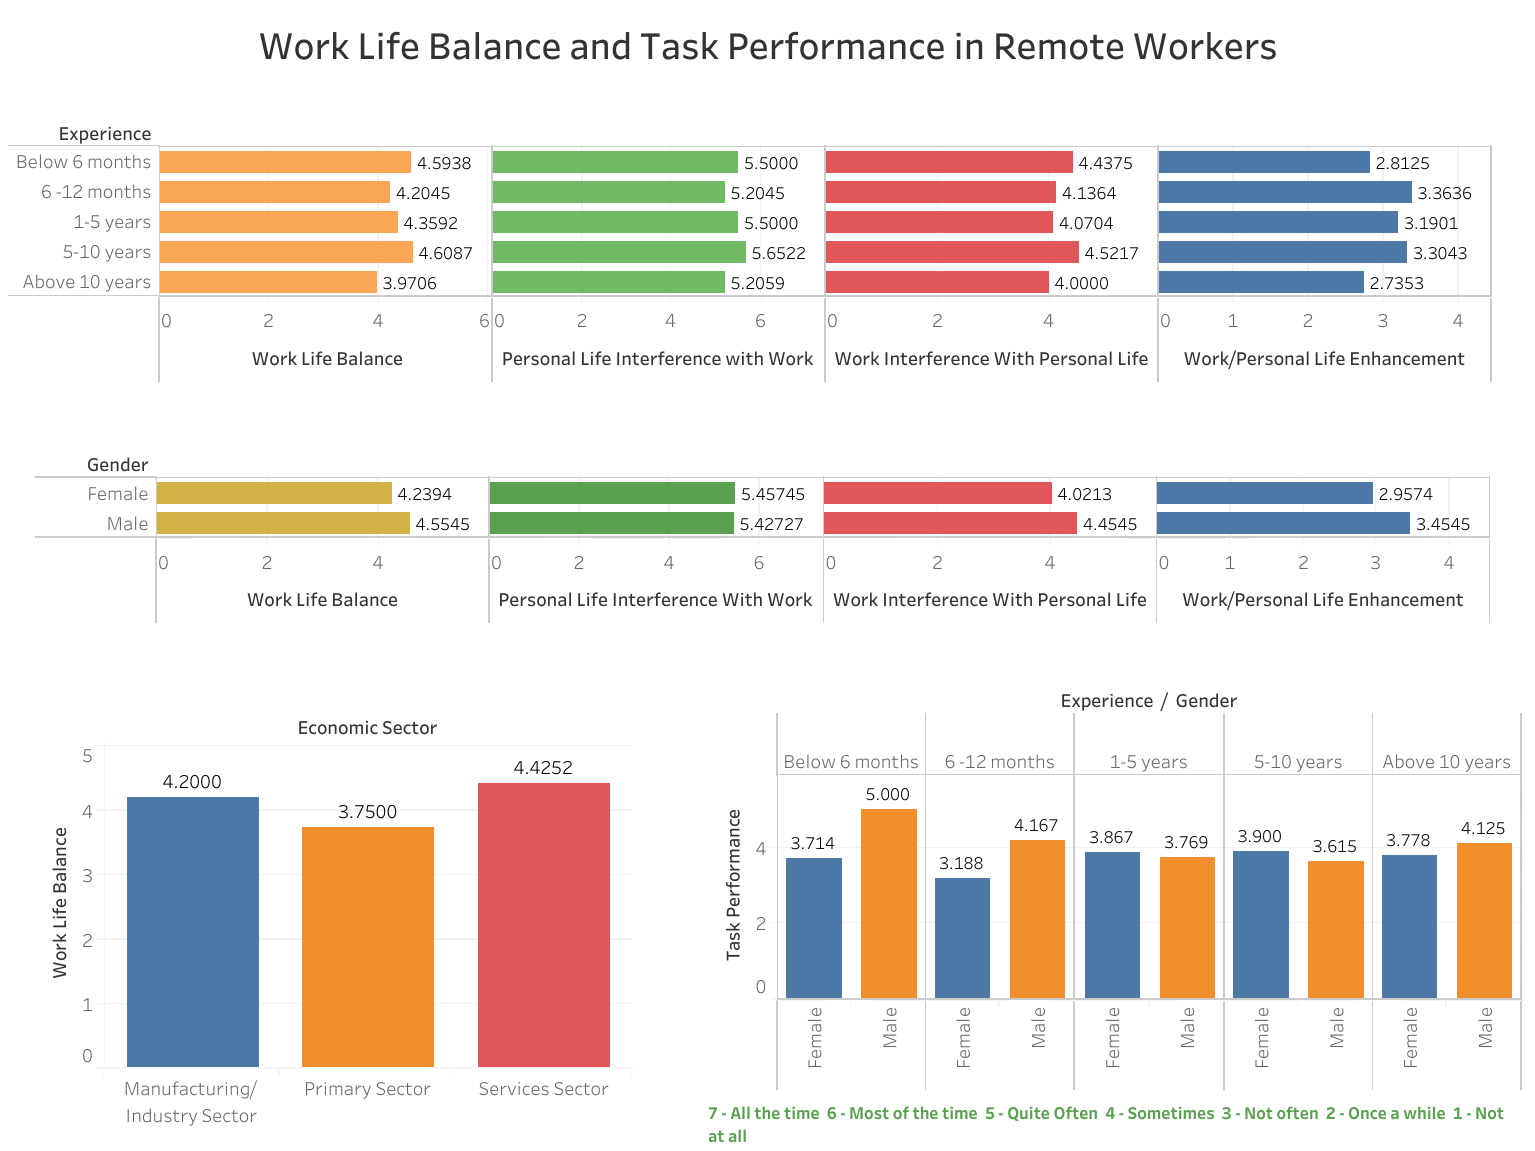

What the dashboard file says about the page in this screenshot:
{"tool":"tableau","page":{"name":"Dashboard 1","canvas":[1024,768],"ordinal":0},"visuals":[{"type":"title","box":[8,8,1008,42]},{"type":"worksheet","title":"Experience and Work Life Balance","mark":"Automatic","rows":["Experience"],"cols":["Work Life Balance","Personal Life Interference With Work","Work Interference With Personal Life","Work/Personal Life Enhancement"],"box":[6.1,77.1,990.6,602.5]},{"type":"worksheet","title":"Gender and Work Life Balance","mark":"Automatic","rows":["Gender"],"cols":["Work Life Balance","Personal Life Interference With Work","Work Interference With Personal Life","Work/Personal Life Enhancement"],"box":[23.5,298.2,970.9,417.4]},{"type":"worksheet","title":"Gender Experience and Task Performance","mark":"Automatic","rows":["Task Performance"],"cols":["Experience","Gender"],"box":[471.8,456.1,543.3,308.8]},{"type":"worksheet","title":"Work Life Balance in Economic Sectors","mark":"Automatic","rows":["Work Life Balance"],"cols":["Economic Sector"],"box":[22.8,474,398.2,277.6]}]}

Visuals, with their boxes in screenshot pixels (x1, y1, x2, y2), scaled from the page's 1024x768 canvas onto the 1535x1151 screenshot:
title: rect(12, 12, 1523, 75)
"Experience and Work Life Balance" worksheet: rect(9, 116, 1494, 1019)
"Gender and Work Life Balance" worksheet: rect(35, 447, 1491, 1072)
"Gender Experience and Task Performance" worksheet: rect(707, 684, 1522, 1146)
"Work Life Balance in Economic Sectors" worksheet: rect(34, 710, 631, 1126)
